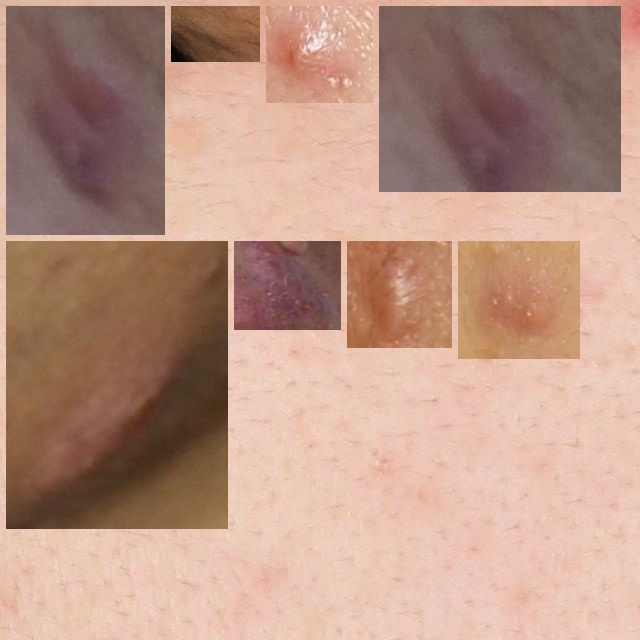nodule: (14, 249, 220, 521), (387, 14, 613, 191), (14, 14, 157, 227), (466, 249, 572, 351), (355, 249, 444, 340), (274, 14, 365, 95), (242, 249, 333, 322), (179, 14, 252, 54)
